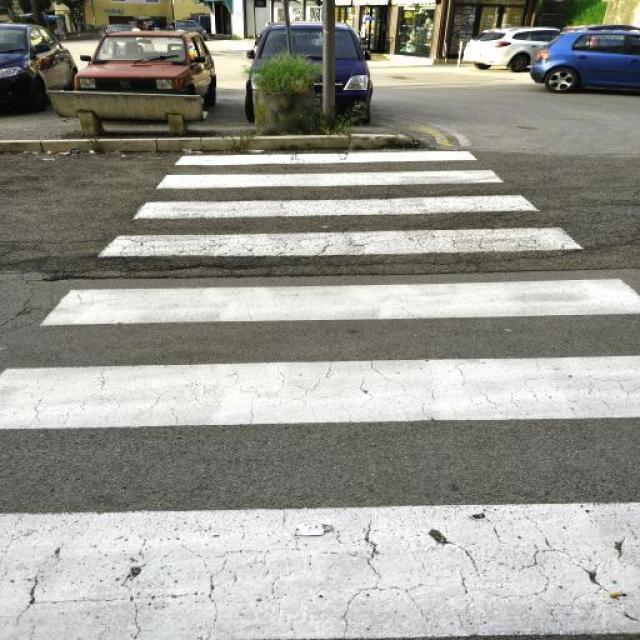crosswalk: (0, 147, 640, 638)
